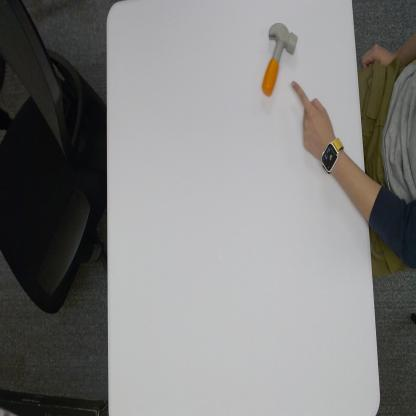Arm: (341, 151, 366, 224)
Hammer: (262, 22, 298, 99)
Hand: (292, 79, 329, 152)
